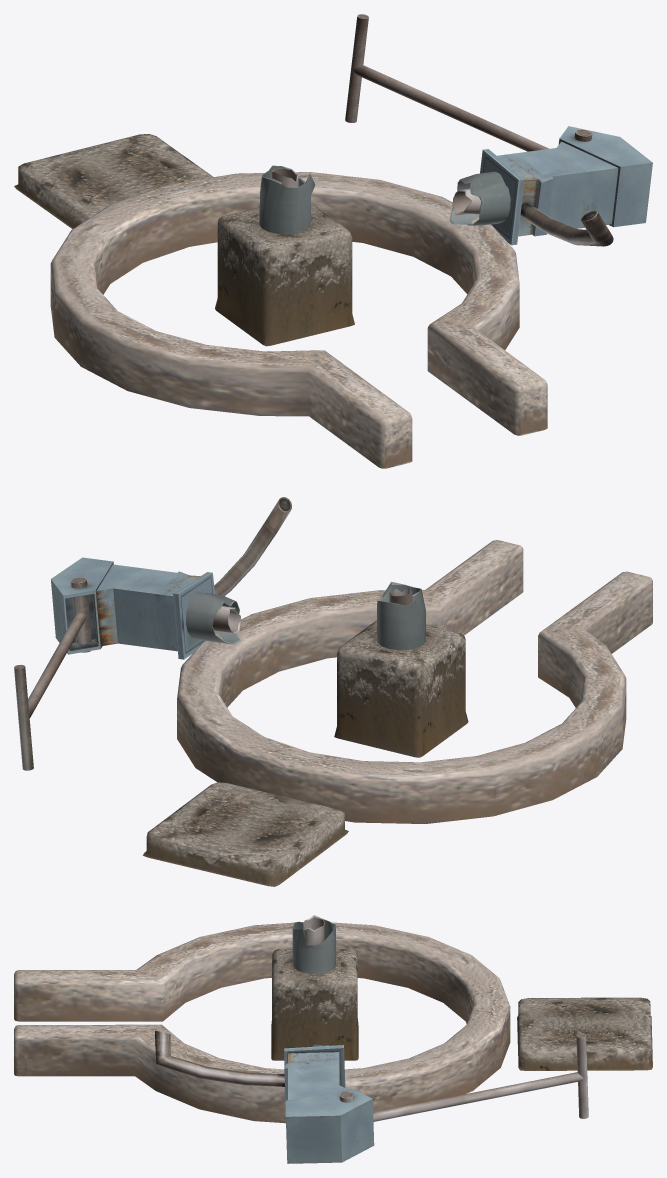
The model's file is well_01.fbx.
3 views of the same model, one above another, from view 1: azimuth 30°, elevation 25°; view 2: azimuth 150°, elevation 25°; view 3: azimuth 270°, elevation 25° (orthographic). The views are drawn at different scales.
Parts seen in each view (by area): view 1: well_broken_1; view 2: well_broken_1; view 3: well_broken_1.
Boxes of the visible parts, x1,y1,x2,y2 form: well_broken_1: (14, 14, 652, 468); well_broken_1: (14, 497, 652, 886); well_broken_1: (14, 915, 652, 1163).
Bounding box in the file's own units: 3.52 × 0.8952 × 4.22.
